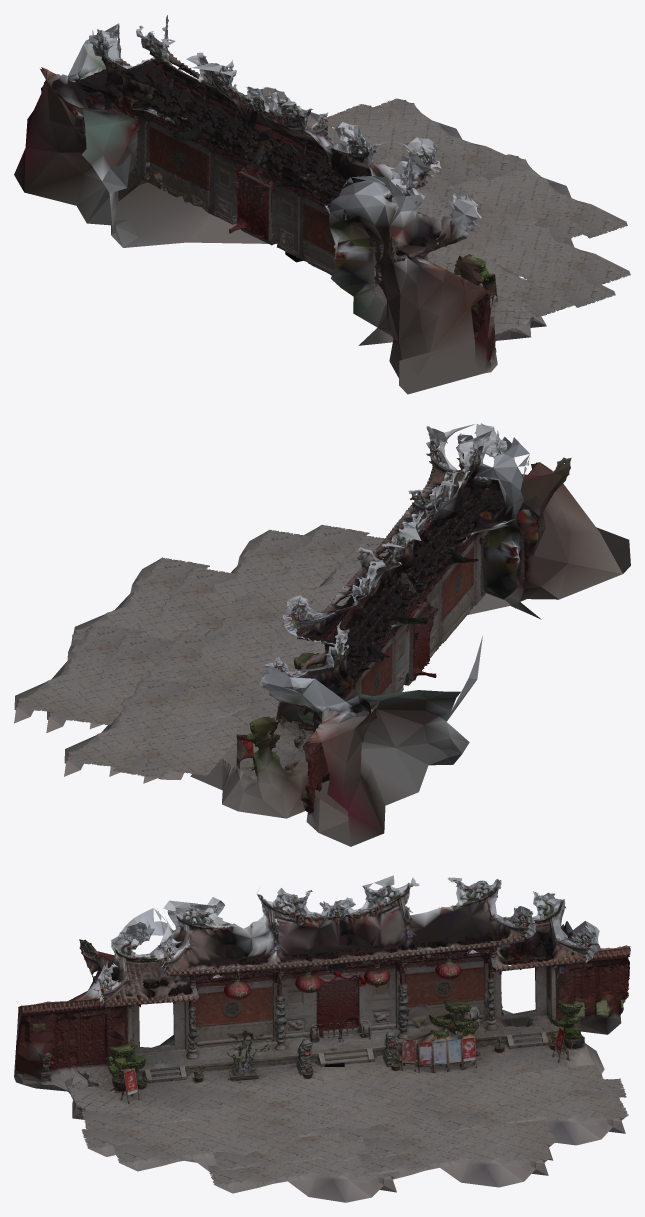
Rendered from tianhougong_f1.glb.
The picture shows the model from 3 angles, top to bottom: view 1: azimuth 30°, elevation 25°; view 2: azimuth 150°, elevation 25°; view 3: azimuth 270°, elevation 25°; orthographic projection. The views are drawn at different scales.
Visible parts, largest first — view 1: Mesh_0_Part_0.019; view 2: Mesh_0_Part_0.019; view 3: Mesh_0_Part_0.019.
Part boxes in pixels (x1=…): Mesh_0_Part_0.019: x1=14, y1=15, x2=630, y2=394; Mesh_0_Part_0.019: x1=14, y1=423, x2=630, y2=846; Mesh_0_Part_0.019: x1=14, y1=875, x2=630, y2=1202.
Size of the model in its own units: 44.64 by 18.67 by 61.09.
